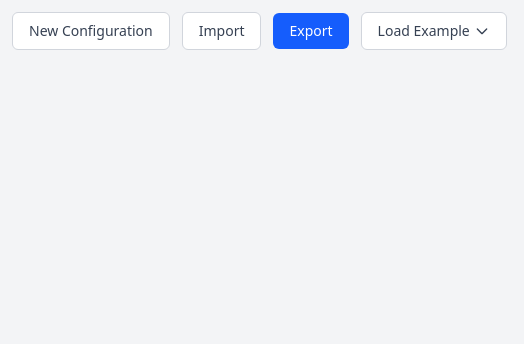
Toolbar › Load Example Button › shows dropdown when clicked
Click the button with test id "load-example-button": (434, 31) [361,12,507,50]
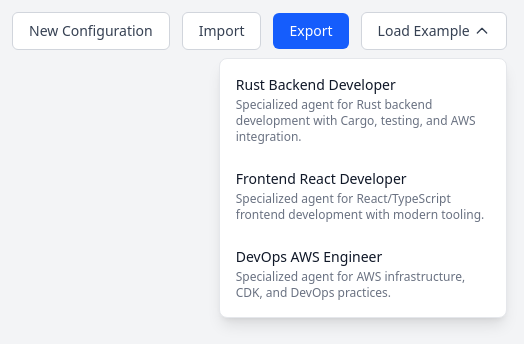
Expected: the element with test id "example-dropdown" is shown, [219,58,507,318]
